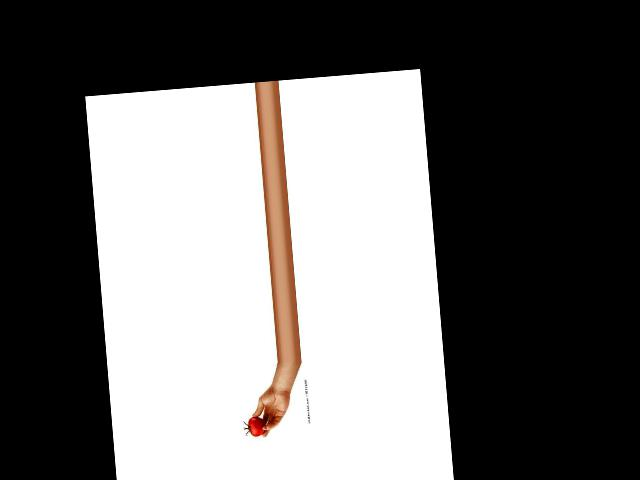tomato: (248, 415, 266, 436)
